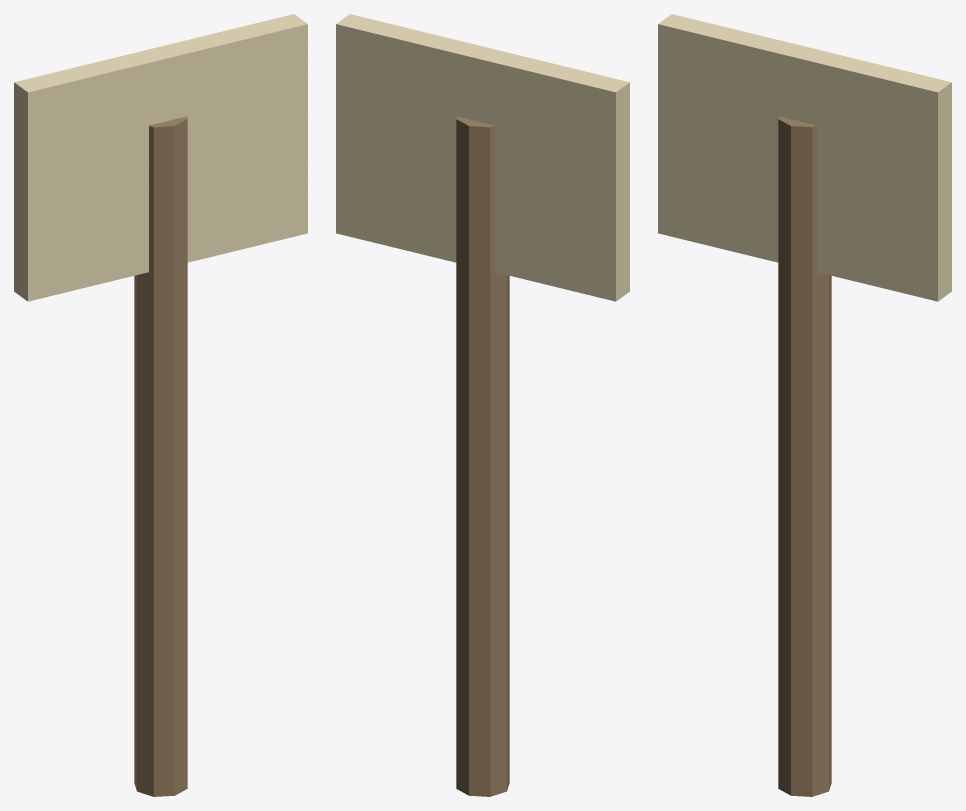
Rendered from signpost.glb.
The picture shows the model from 3 angles, left to right: view 1: azimuth 30°, elevation 25°; view 2: azimuth 150°, elevation 25°; view 3: azimuth 330°, elevation 25°; orthographic projection.
Parts seen in each view (by area): view 1: Board, Post; view 2: Board, Post; view 3: Board, Post.
Boxes of the visible parts, left/top/right/bottom form: Board: left=14, top=14, right=307, bottom=301; Post: left=134, top=116, right=187, bottom=796; Board: left=336, top=14, right=629, bottom=301; Post: left=456, top=116, right=509, bottom=796; Board: left=658, top=14, right=951, bottom=301; Post: left=778, top=116, right=831, bottom=796.
Bounding box in the file's own units: 0.7 × 1.75 × 0.12.
